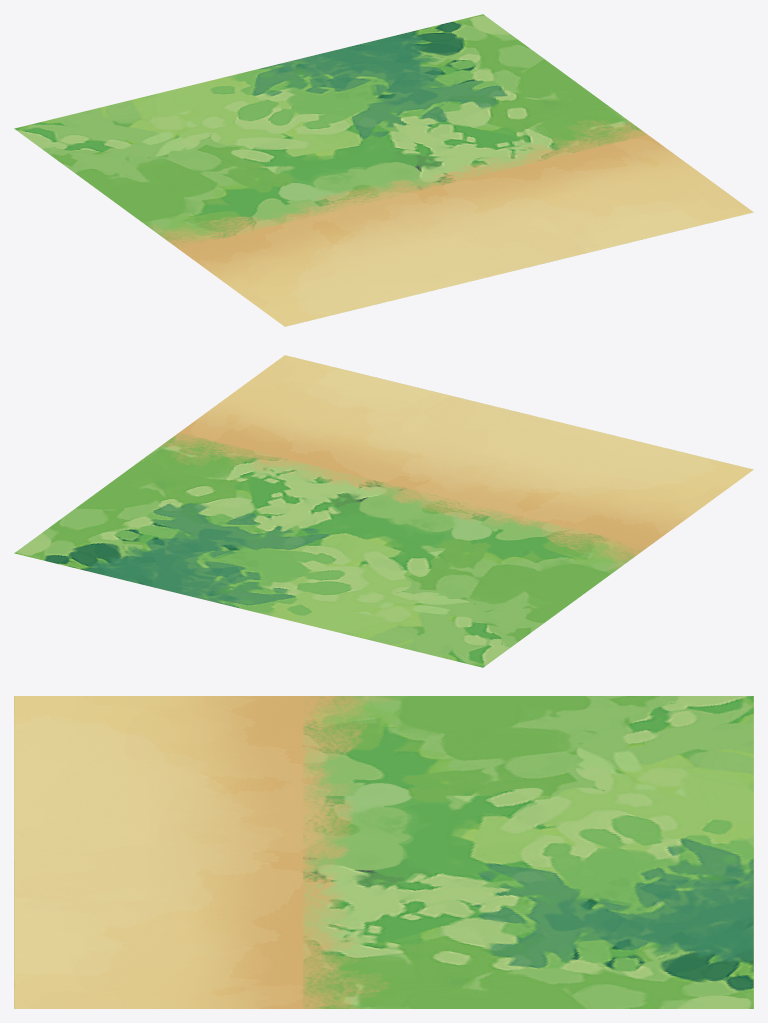
File: env_tiles_mesh_09.fbx
3 renders of one model, top to bottom at view 1: azimuth 30°, elevation 25°; view 2: azimuth 150°, elevation 25°; view 3: azimuth 270°, elevation 25°, orthographic. The views are drawn at different scales.
Parts seen in each view (by area): view 1: T9; view 2: T9; view 3: T9.
Part boxes in pixels (x1,y1,x2,y2): T9: [14, 14, 753, 326]; T9: [14, 355, 753, 667]; T9: [14, 696, 753, 1008].
Size of the model in its own units: 1000 by 0 by 1000.
